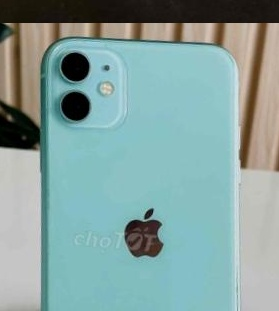scratch: (75, 34, 109, 50), (219, 52, 239, 73)
